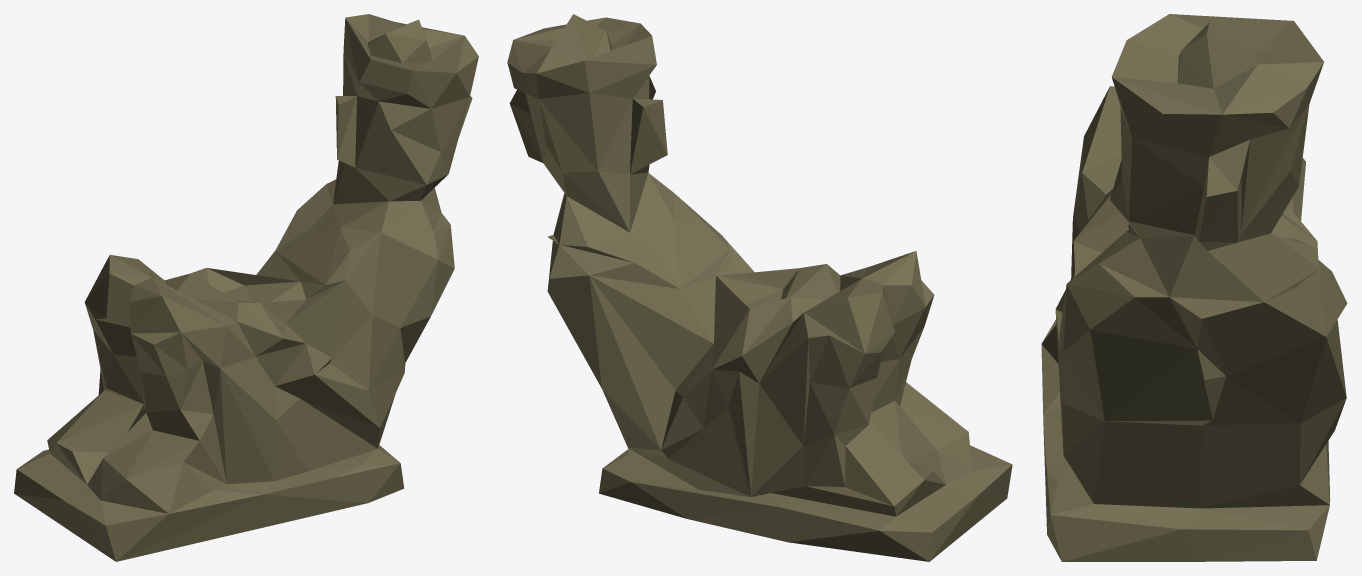
Rendered from chac-mool.lod2.glb.
3 views of the same model, side by side, from view 1: azimuth 30°, elevation 25°; view 2: azimuth 150°, elevation 25°; view 3: azimuth 270°, elevation 25° (orthographic). The views are drawn at different scales.
Parts seen in each view (by area): view 1: Object_2; view 2: Object_2; view 3: Object_2.
Boxes of the visible parts, x1,y1,x2,y2 form: Object_2: (14, 14, 478, 561); Object_2: (507, 14, 1012, 561); Object_2: (1041, 14, 1347, 561).
Bounding box in the file's own units: 1.68 × 1.57 × 0.7575.
